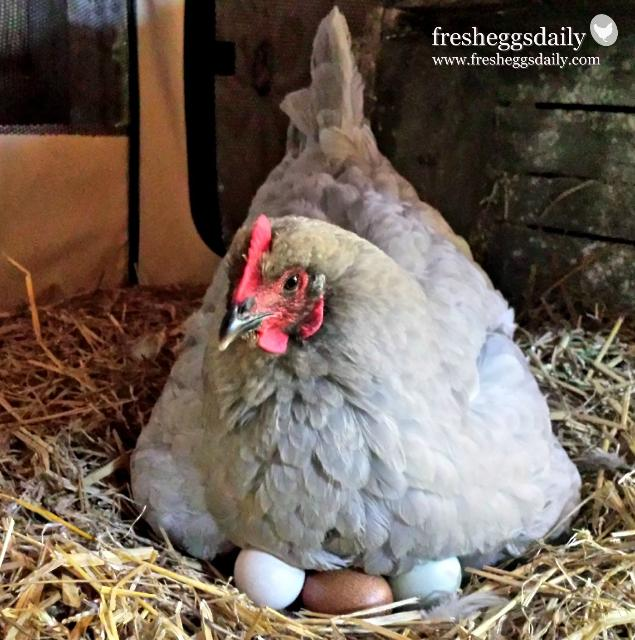Chicken: (129, 8, 581, 581)
